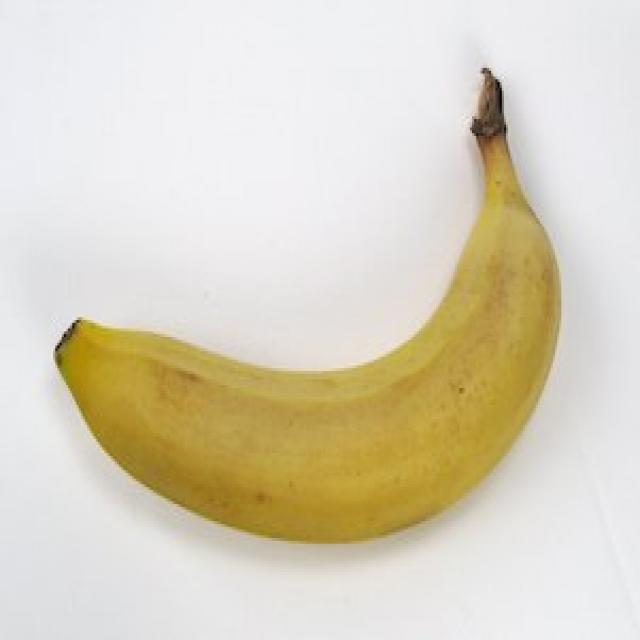Banana: (45, 82, 566, 552)
